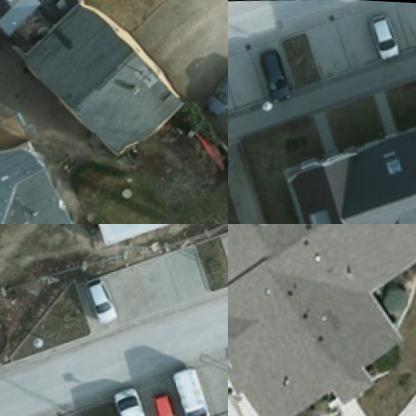car: (255, 45, 301, 100), (370, 6, 406, 58), (90, 276, 125, 322), (204, 53, 227, 111), (157, 380, 194, 415)
van: (175, 352, 224, 415), (108, 379, 165, 415)
